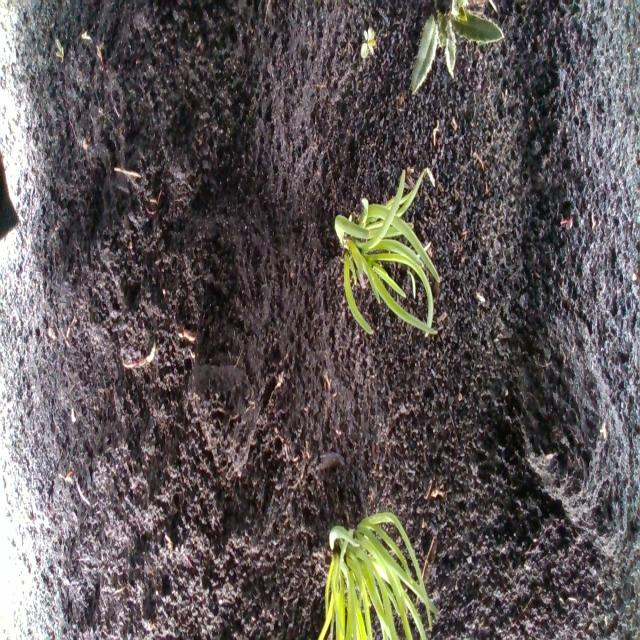weed: (360, 22, 376, 62)
